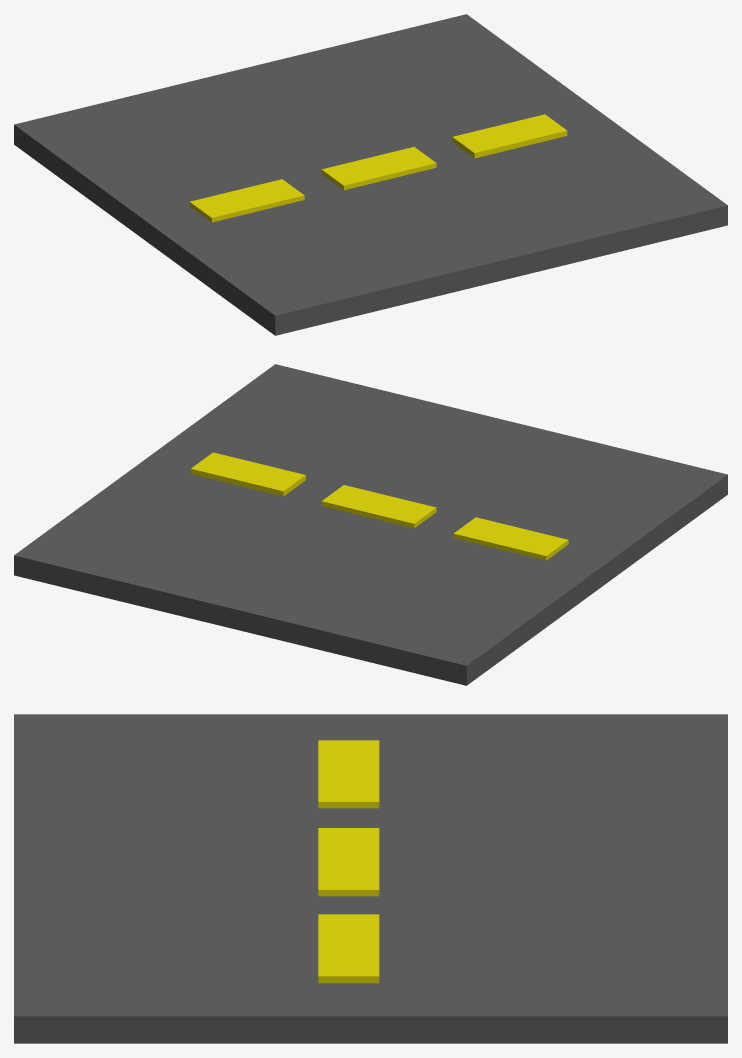
Rendered from DropZone.fbx.
3 views of the same model, one above another, from view 1: azimuth 30°, elevation 25°; view 2: azimuth 150°, elevation 25°; view 3: azimuth 270°, elevation 25° (orthographic). The views are drawn at different scales.
Parts seen in each view (by area): view 1: Cubo; view 2: Cubo; view 3: Cubo.
Boxes of the visible parts, x1,y1,x2,y2 form: Cubo: [14, 14, 727, 335]; Cubo: [14, 364, 727, 685]; Cubo: [14, 714, 727, 1043].
Size of the model in its own units: 200 by 11.22 by 200.
